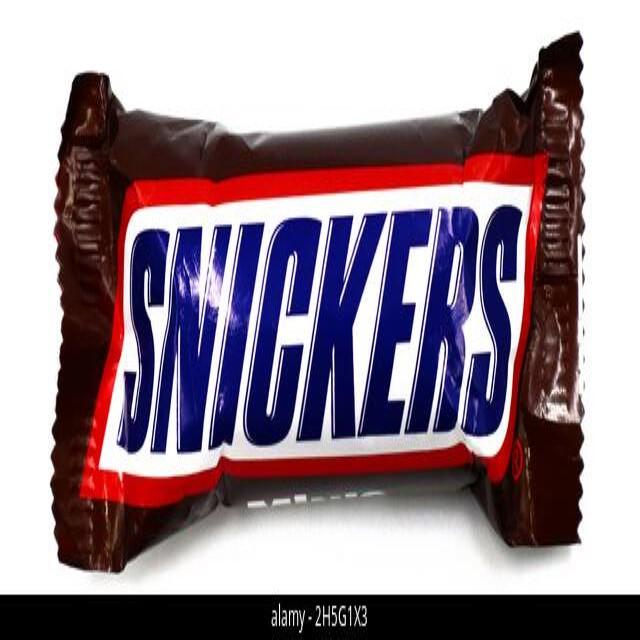snickers_chocolate: (60, 72, 590, 535)
